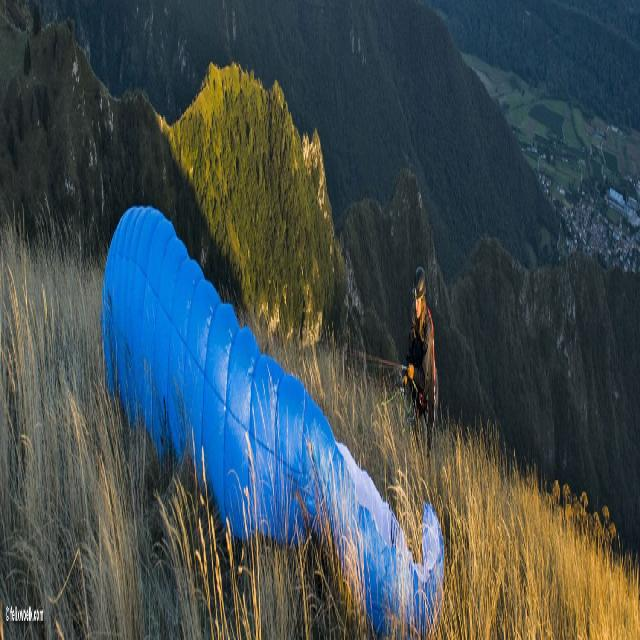paraglider: (100, 200, 444, 635)
